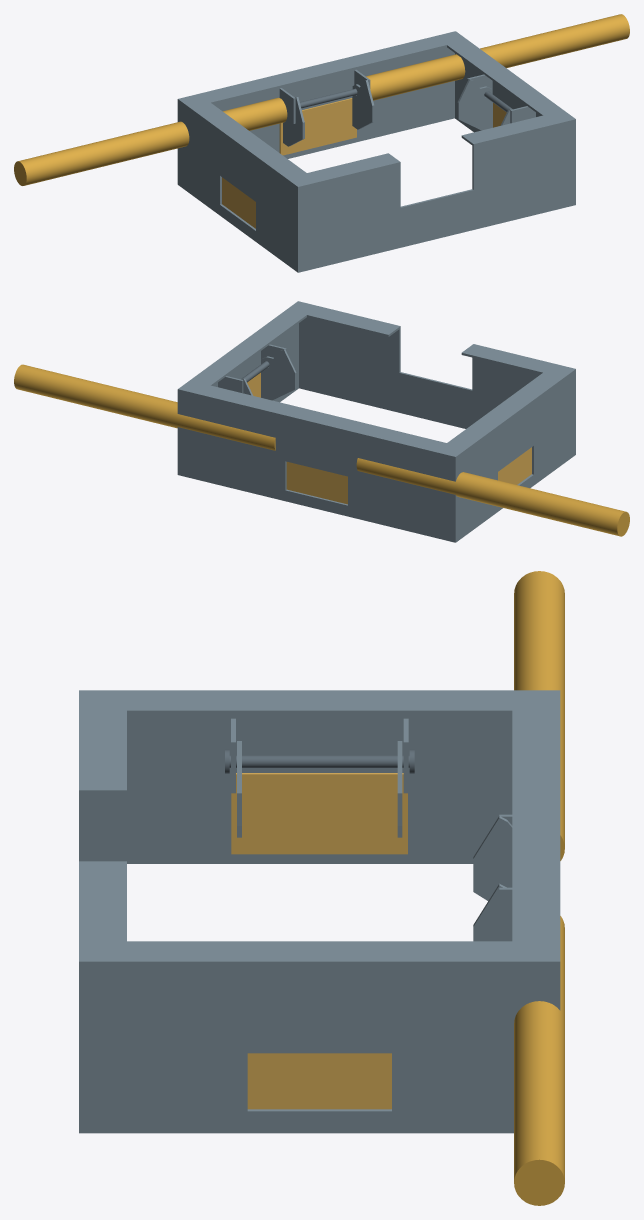
File: baseline_pin_access.glb
The picture shows the model from 3 angles, top to bottom: view 1: azimuth 30°, elevation 25°; view 2: azimuth 150°, elevation 25°; view 3: azimuth 270°, elevation 25°; orthographic projection. The views are drawn at different scales.
Visible parts, largest first — view 1: baseline_pin_access (×4); view 2: baseline_pin_access (×3); view 3: baseline_pin_access (×4).
Boxes of the visible parts, x1,y1,x2,y2 form: baseline_pin_access (×4): (14, 14, 629, 272); baseline_pin_access (×3): (14, 301, 629, 542); baseline_pin_access (×4): (79, 571, 564, 1205).
Size of the model in its own units: 0.3473 by 0.0472 by 0.1211.
